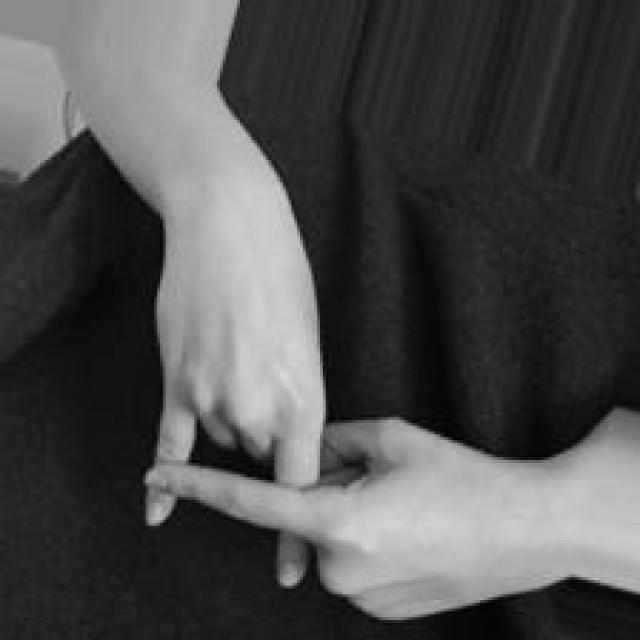H: (139, 223, 500, 624)
